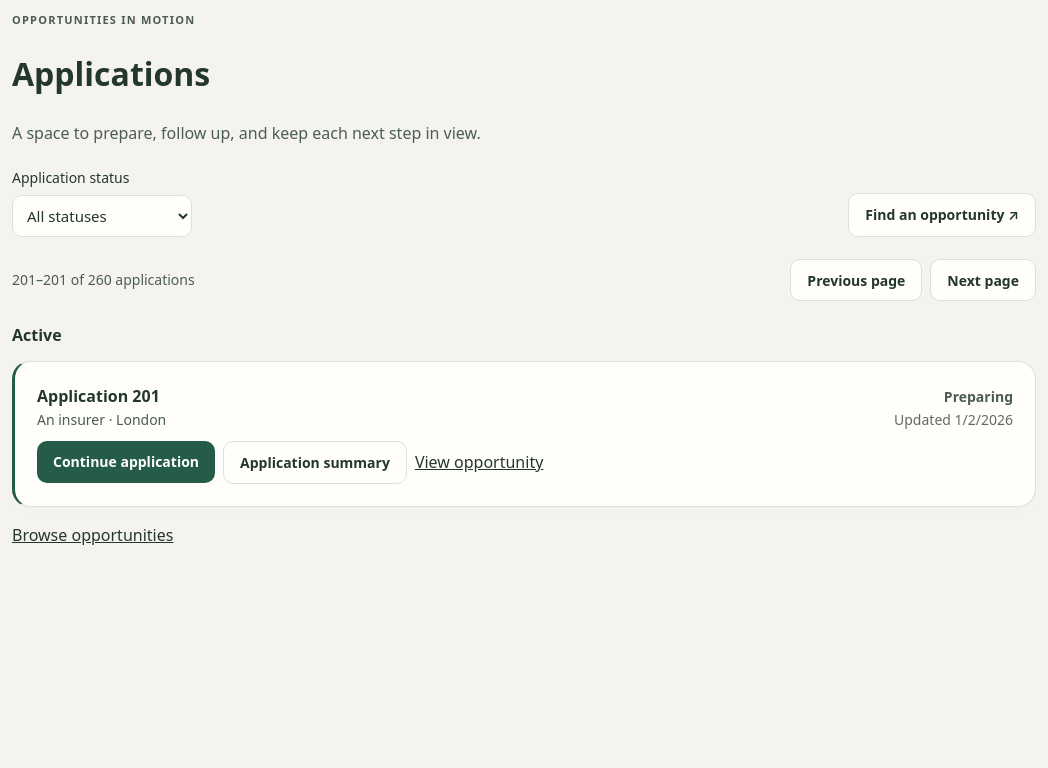
Test: Application pagination and recovery › makes records beyond 200 accessible and filters on the server
Check: the text "Application 201" is shown, box [37,385,160,407]
Click the button "Next page": (983, 280) [930,259,1036,301]
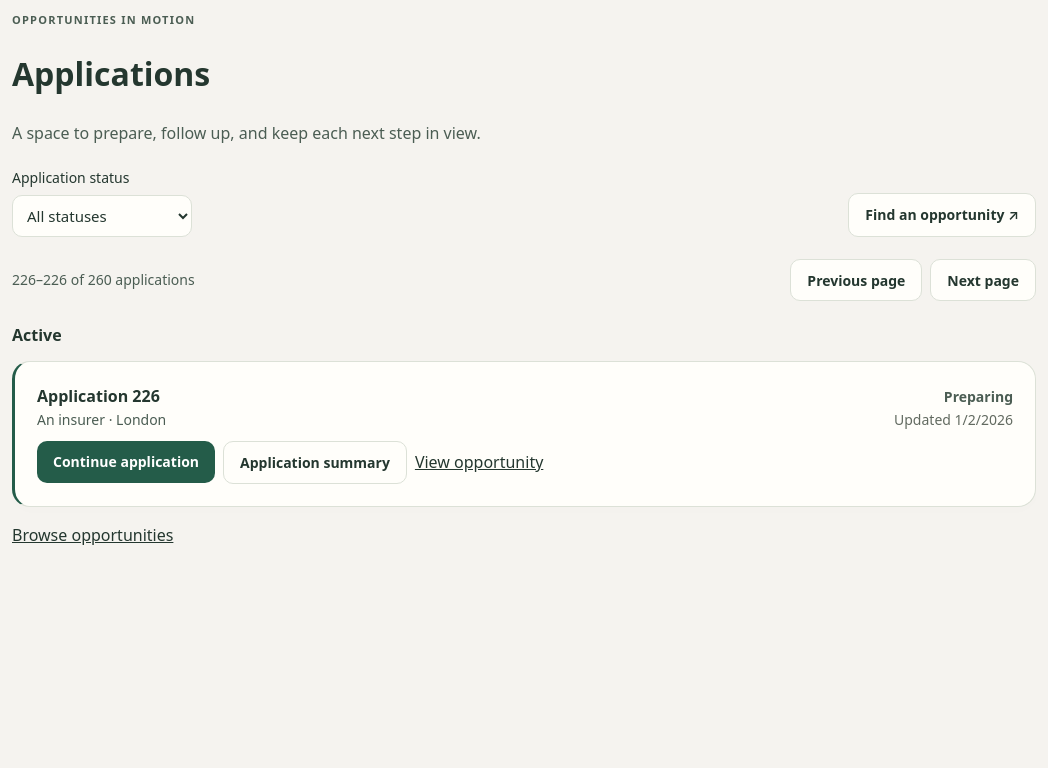
Check: the text "Application 226" is shown, box [37,385,160,407]
Select "Interviewing" in the dropdown labelled "Application status": (102, 216) [12,195,192,237]
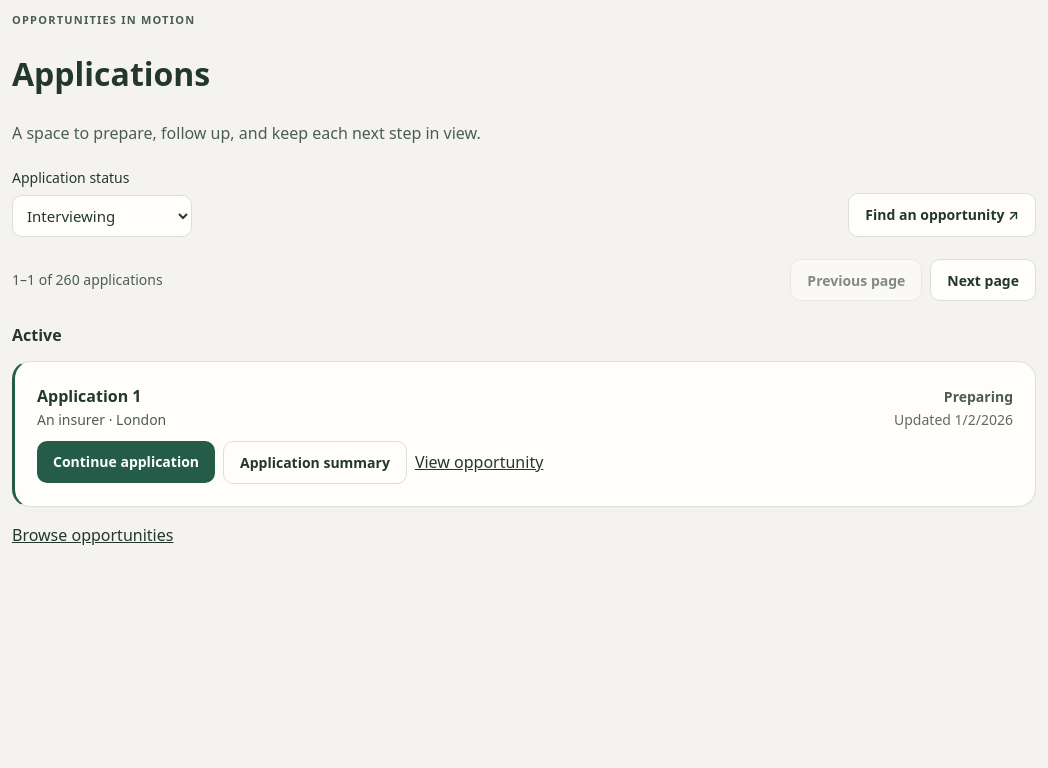
Check: the text "Application 1" is shown, box [37,385,142,407]
